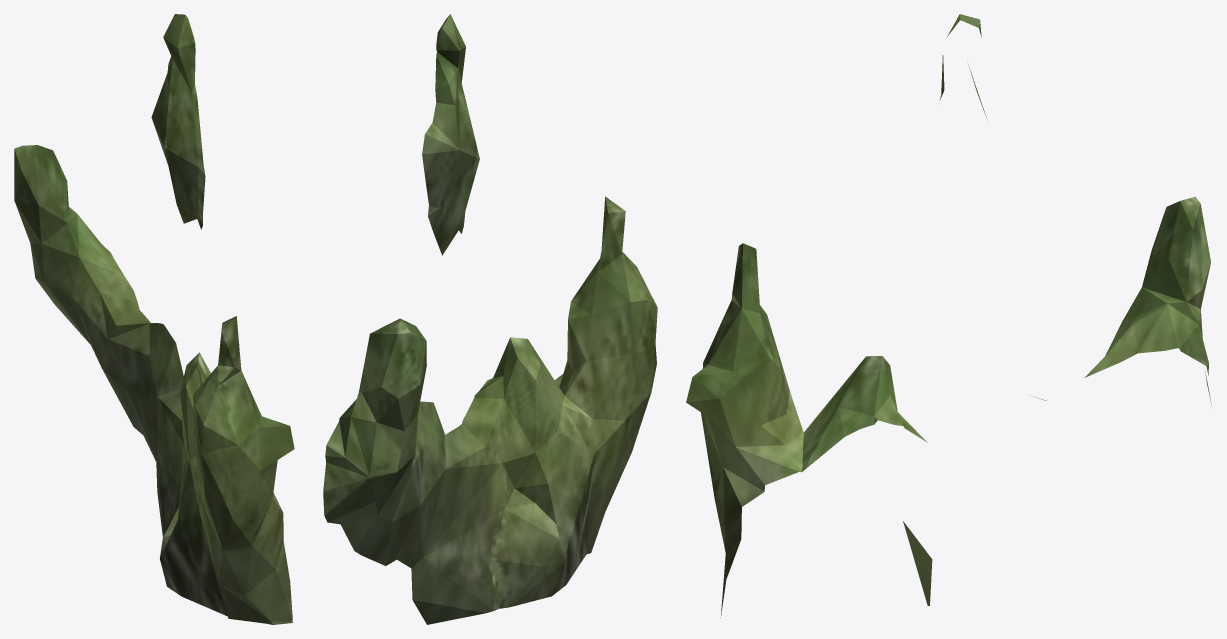
The picture shows the model from 3 angles, left to right: view 1: azimuth 30°, elevation 25°; view 2: azimuth 150°, elevation 25°; view 3: azimuth 270°, elevation 25°; orthographic projection. The views are drawn at different scales.
Bounding box in the file's own units: 0.3116 × 1.84 × 1.44.
1 material, 1 textured.
